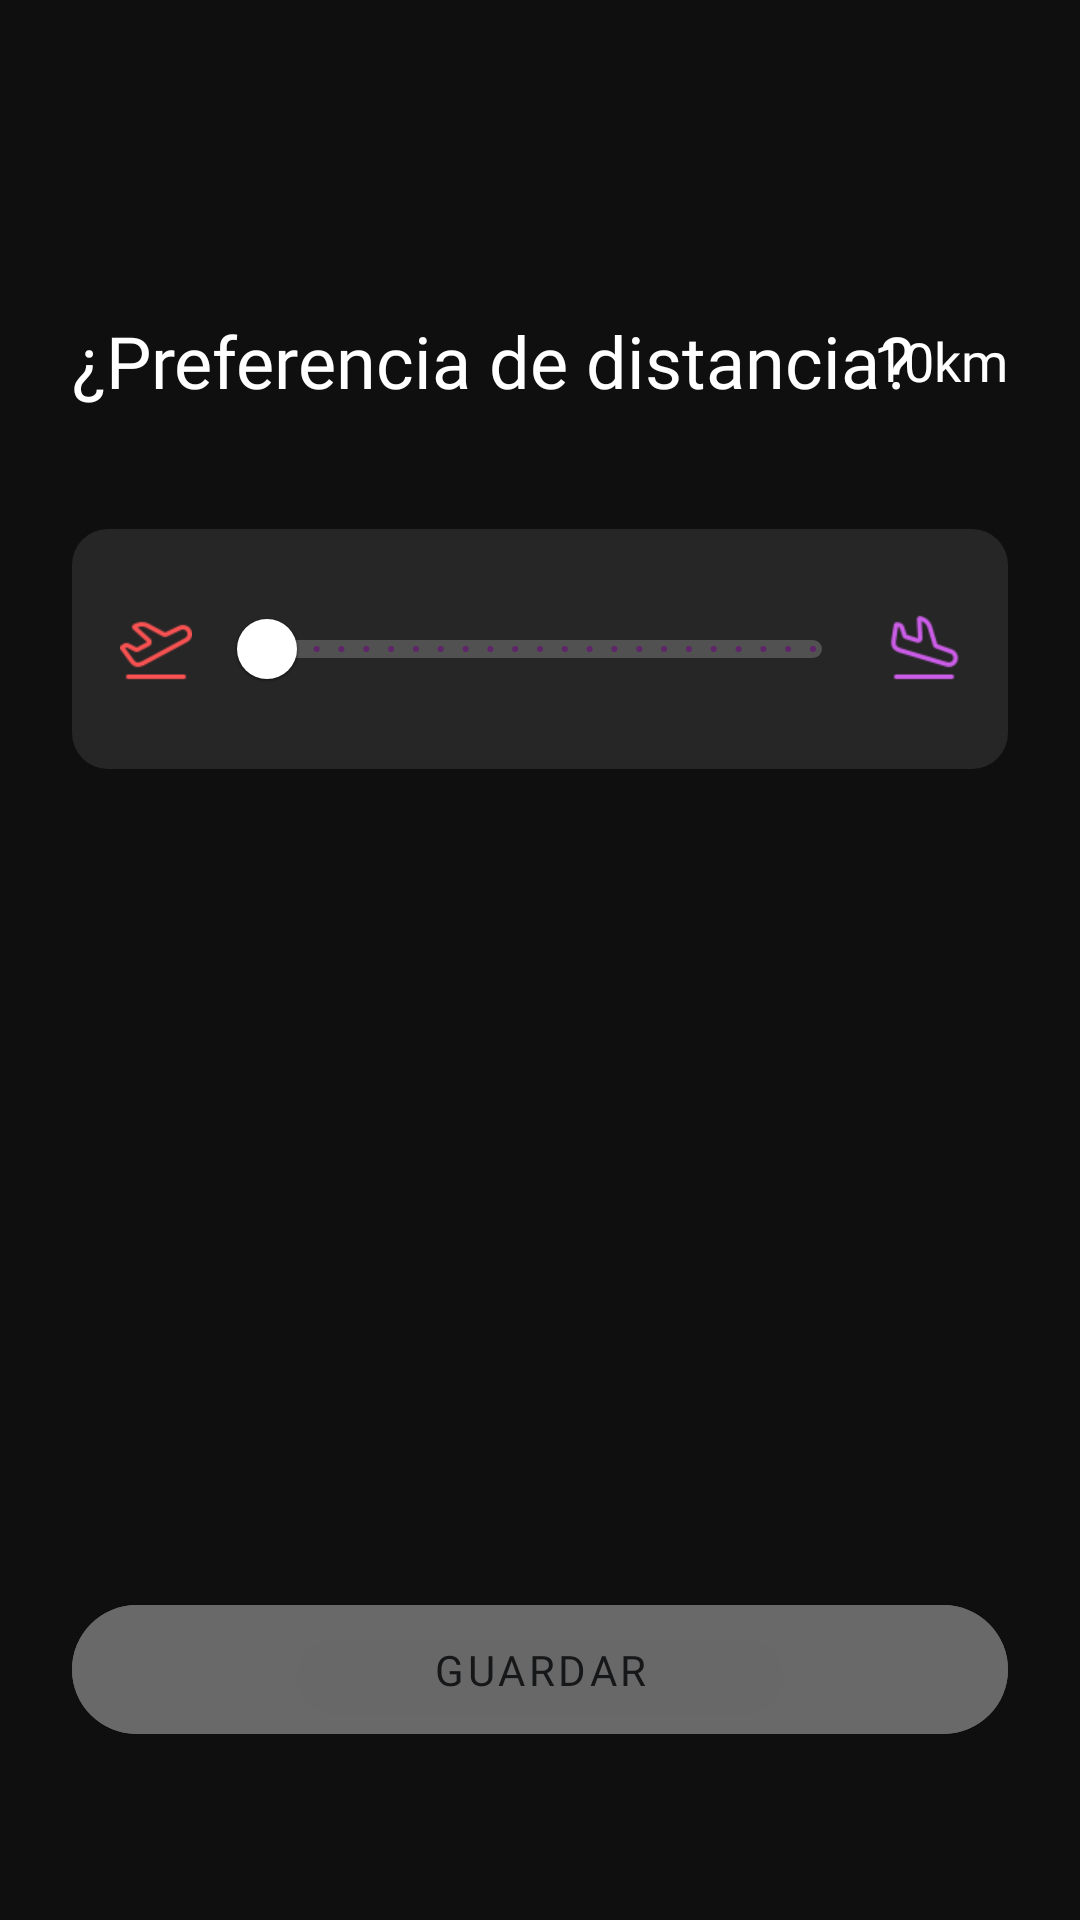

Locate icon controls on the screen. Image size 1080px x 1920px, boxes as (x1, y1, x2, y2).
plane arrival: (890, 615, 959, 680)
plane departure: (120, 621, 192, 680)
